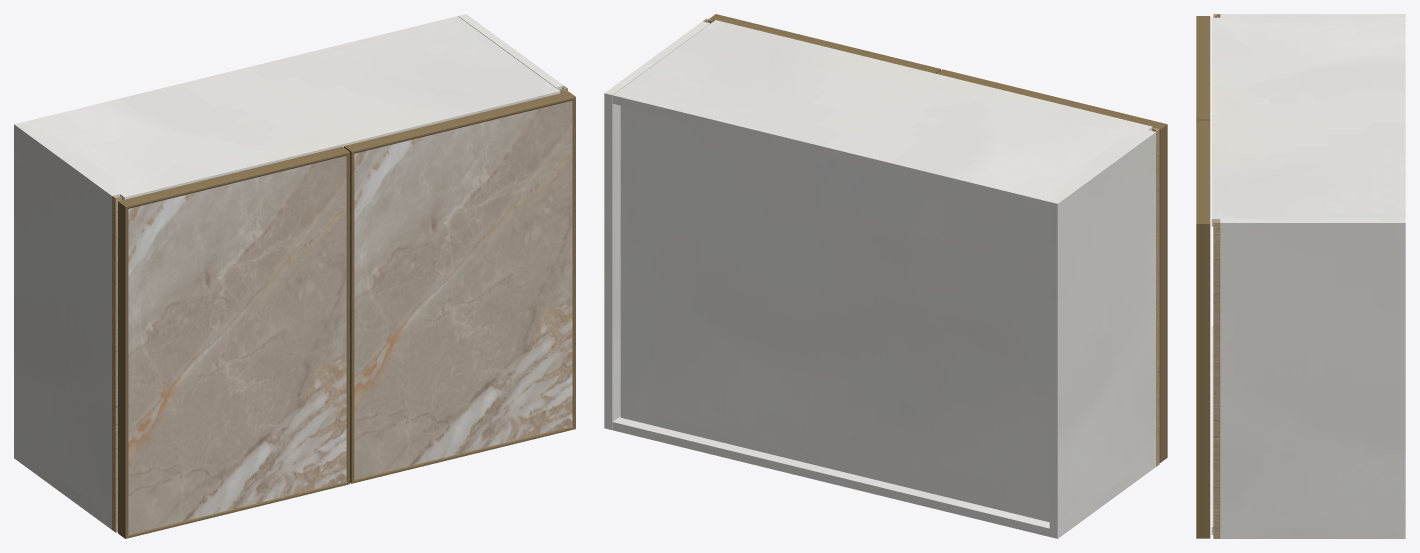
File: LO-SH-NHX-ST-1SX-2HS-XXX-850-600-336-15.glb
3 renders of one model, left to right at view 1: azimuth 30°, elevation 25°; view 2: azimuth 150°, elevation 25°; view 3: azimuth 270°, elevation 25°, orthographic. The views are drawn at different scales.
Visible parts, largest first — view 1: Object_node_6, Object_node_4, TP, TP_node_0, Extrusion_node_1, Extrusion, Extrusion_node_2, Object_node_8, Extrusion_node_5, Extrusion_node, Extrusion_node_3, Extrusion_node_0 (+2 smaller); view 2: TP_node_2, TP, TP_node_0, TP_node, TP_node_1, Extrusion_node_1, Extrusion, Extrusion_node_2, Object_node_8; view 3: TP_node_1, TP, Extrusion_node_3, Object_node_14, Extrusion, Extrusion_node_2, TP_node_0, TP_node.
Boxes of the visible parts, bbox=[...] form: Object_node_6: bbox=[354, 100, 572, 479]; Object_node_4: bbox=[128, 155, 346, 534]; TP: bbox=[22, 16, 560, 200]; TP_node_0: bbox=[14, 122, 119, 529]; Extrusion_node_1: bbox=[118, 201, 128, 538]; Extrusion: bbox=[118, 146, 349, 208]; Extrusion_node_2: bbox=[344, 91, 575, 153]; Object_node_8: bbox=[112, 195, 121, 532]; Extrusion_node_5: bbox=[344, 146, 354, 483]; Extrusion_node: bbox=[346, 152, 349, 483]; Extrusion_node_3: bbox=[572, 97, 575, 428]; Extrusion_node_0: bbox=[126, 481, 349, 538]; TP_node_2: bbox=[620, 106, 1049, 522]; TP: bbox=[612, 20, 1152, 210]; TP_node_0: bbox=[1049, 130, 1155, 538]; TP_node: bbox=[612, 416, 1049, 536]; TP_node_1: bbox=[604, 21, 710, 429]; Extrusion_node_1: bbox=[1159, 124, 1167, 462]; Extrusion: bbox=[936, 69, 1167, 129]; Extrusion_node_2: bbox=[709, 14, 940, 73]; Object_node_8: bbox=[1152, 128, 1159, 466]; TP_node_1: bbox=[1220, 219, 1405, 538]; TP: bbox=[1211, 17, 1405, 226]; Extrusion_node_3: bbox=[1196, 224, 1210, 538]; Object_node_14: bbox=[1213, 220, 1220, 538]; Extrusion: bbox=[1196, 16, 1210, 119]; Extrusion_node_2: bbox=[1196, 120, 1210, 223]; TP_node_0: bbox=[1220, 14, 1405, 17]; TP_node: bbox=[1211, 326, 1213, 534].
Size of what is drawn, in the model's own units: 0.85 by 0.6 by 0.3602.
7 materials, 3 textured.
